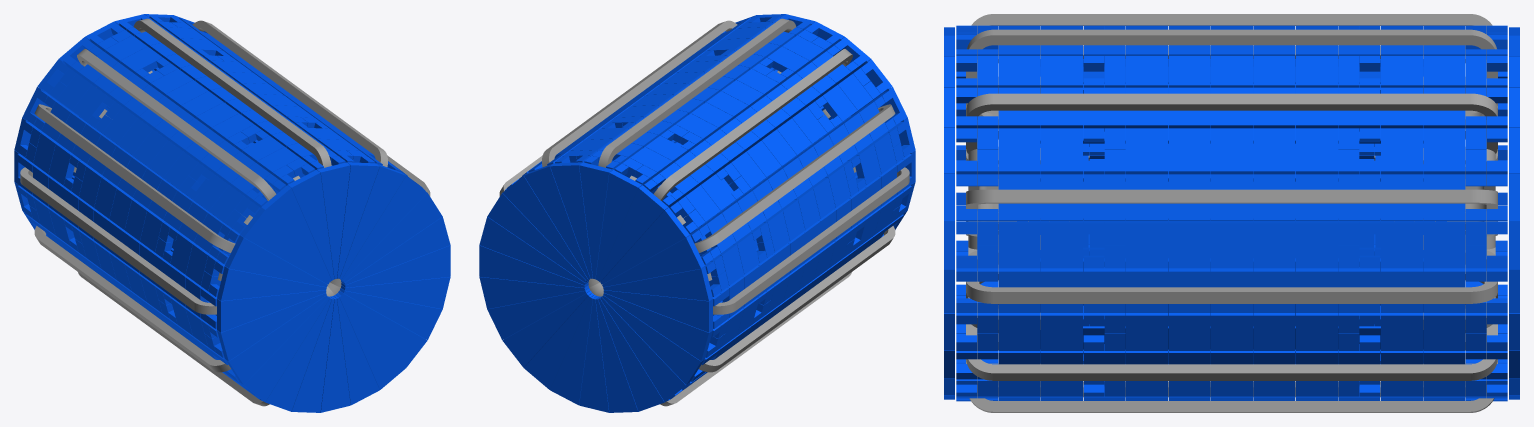
File: chambers-and-coils.obj
3 renders of one model, left to right at view 1: azimuth 30°, elevation 25°; view 2: azimuth 150°, elevation 25°; view 3: azimuth 270°, elevation 25°, orthographic. The views are drawn at different scales.
Parts seen in each view (by area): view 1: coil_barrel_06, coil_barrel_03, coil_barrel_04, coil_barrel_05, coil_barrel_07, coil_barrel_02, chamber_EP3_WHEEL_S10, chamber_EP3_WHEEL_S11, chamber_EP3_WHEEL_S08, chamber_EP3_WHEEL_S07, chamber_EP3_WHEEL_S09, chamber_EP3_WHEEL_S06 (+70 smaller); view 2: coil_barrel_06, coil_barrel_03, coil_barrel_04, coil_barrel_05, coil_barrel_07, coil_barrel_02, chamber_EM3_WHEEL_S10, chamber_EM3_WHEEL_S11, chamber_EM3_WHEEL_S08, chamber_EM3_WHEEL_S07, chamber_EM3_WHEEL_S09, chamber_EM3_WHEEL_S06 (+70 smaller); view 3: coil_barrel_02, coil_barrel_03, coil_barrel_00, coil_barrel_11, coil_barrel_01, coil_barrel_10, coil_barrel_04, chamber_B3_F01_Z01, chamber_B3_F01_Z05, chamber_B3_F01_Z07, chamber_B3_F01_Z11, chamber_B3_F03_Z01 (+102 smaller).
Part boxes in pixels (x1,y1,x2,y2): coil_barrel_06: [20, 167, 216, 314]; coil_barrel_03: [133, 18, 331, 167]; coil_barrel_04: [77, 49, 276, 200]; coil_barrel_05: [34, 104, 235, 252]; coil_barrel_07: [34, 226, 230, 372]; coil_barrel_02: [192, 20, 387, 166]; chamber_EP3_WHEEL_S10: [225, 235, 327, 287]; chamber_EP3_WHEEL_S11: [217, 266, 326, 300]; chamber_EP3_WHEEL_S08: [261, 185, 331, 281]; chamber_EP3_WHEEL_S07: [288, 170, 334, 280]; chamber_EP3_WHEEL_S09: [240, 207, 329, 284]; chamber_EP3_WHEEL_S06: [317, 162, 350, 279]; coil_barrel_06: [713, 167, 909, 314]; coil_barrel_03: [598, 18, 796, 167]; coil_barrel_04: [653, 49, 852, 200]; coil_barrel_05: [694, 104, 895, 252]; coil_barrel_07: [699, 226, 895, 372]; coil_barrel_02: [542, 20, 737, 166]; chamber_EM3_WHEEL_S10: [602, 235, 704, 287]; chamber_EM3_WHEEL_S11: [603, 266, 712, 300]; chamber_EM3_WHEEL_S08: [598, 185, 668, 281]; chamber_EM3_WHEEL_S07: [595, 170, 641, 280]; chamber_EM3_WHEEL_S09: [600, 207, 689, 284]; chamber_EM3_WHEEL_S06: [579, 162, 612, 279]; coil_barrel_02: [966, 93, 1497, 160]; coil_barrel_03: [966, 29, 1497, 128]; coil_barrel_00: [966, 250, 1497, 303]; coil_barrel_11: [966, 304, 1497, 380]; coil_barrel_01: [966, 189, 1497, 211]; coil_barrel_10: [966, 309, 1497, 412]; coil_barrel_04: [971, 14, 1492, 113]; chamber_B3_F01_Z01: [1423, 221, 1465, 268]; chamber_B3_F01_Z05: [1253, 221, 1295, 268]; chamber_B3_F01_Z07: [1168, 221, 1210, 268]; chamber_B3_F01_Z11: [998, 221, 1040, 268]; chamber_B3_F03_Z01: [1423, 128, 1465, 174].
Size of the model in its own units: 18.1 by 18.1 by 26.1.
